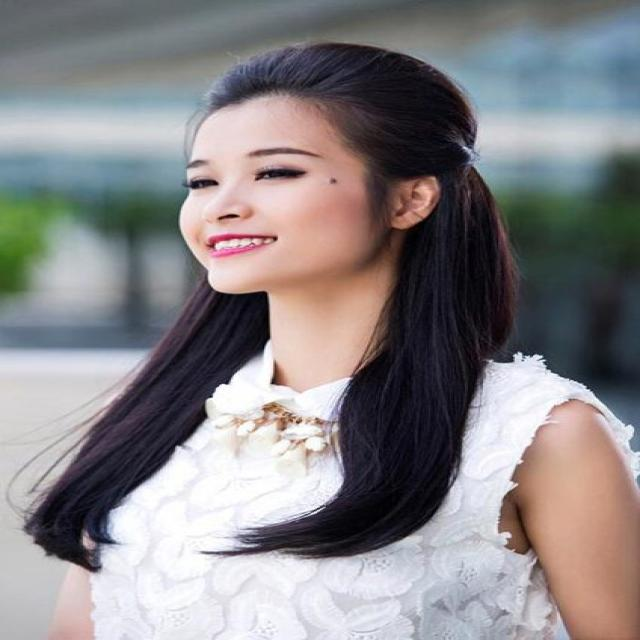Nonhelmet: (158, 31, 505, 304)
